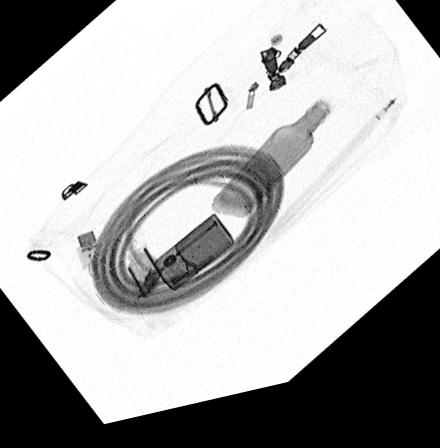Lighter: (151, 223, 233, 298)
